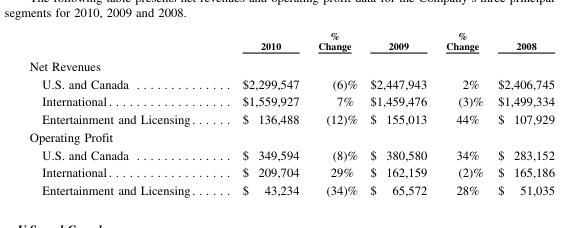table: (28, 29, 554, 196)
table column: (28, 29, 218, 196), (218, 29, 307, 196), (363, 29, 435, 196), (489, 29, 554, 196), (307, 29, 363, 196), (435, 29, 489, 196)
table column header: (28, 29, 554, 54)
table projected row header: (28, 54, 554, 74), (28, 127, 554, 145)
table row: (28, 29, 554, 54), (28, 54, 554, 74), (28, 74, 554, 92), (28, 92, 554, 110), (28, 127, 554, 145), (28, 145, 554, 163), (28, 110, 554, 127), (28, 163, 554, 180), (28, 180, 554, 196)
